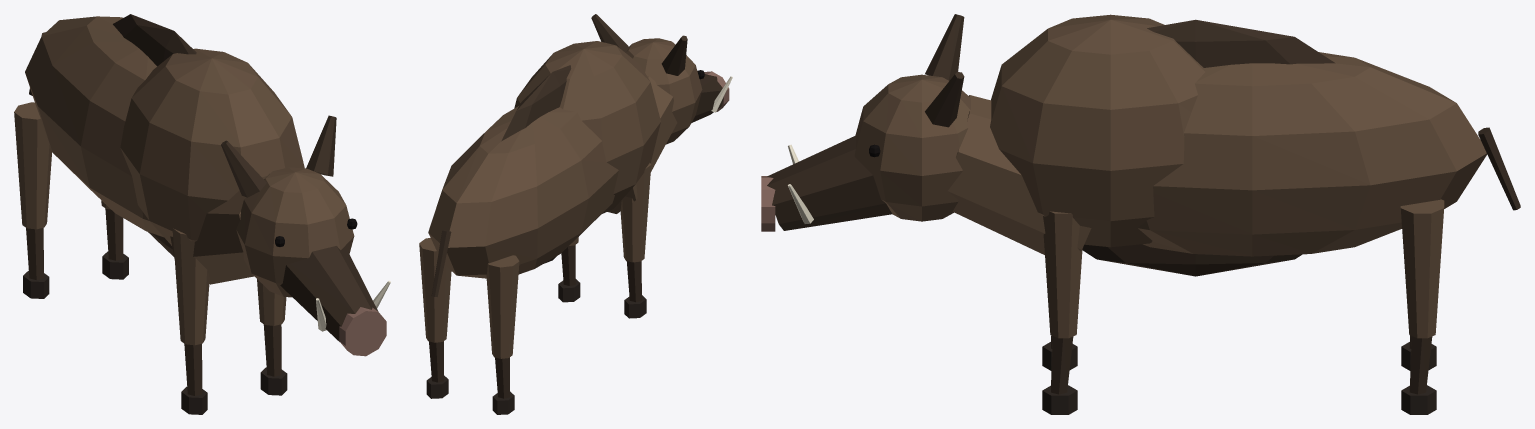
Rendered from boar.obj.
3 views of the same model, side by side, from view 1: azimuth 30°, elevation 25°; view 2: azimuth 150°, elevation 25°; view 3: azimuth 270°, elevation 25° (orthographic). The views are drawn at different scales.
Parts seen in each view (by area): view 1: Body.Shoulder, Body, Head.Skull, Head.Face, Leg.BR, Head.Neck, Leg.FR, Body.Mane, Head.Ear, Head.Snout, Leg.FL, Leg.FR.Shin (+8 smaller); view 2: Body, Body.Shoulder, Head.Skull, Leg.BR, Leg.BL, Leg.FR, Body.Mane, Head.Neck, Head.Ear, Head.Face, Body.Tail, Leg.FR.Shin (+7 smaller); view 3: Body, Body.Shoulder, Head.Skull, Body.Mane, Head.Neck, Head.Face, Leg.BL, Leg.FL, Head.Ear, Leg.BL.Shin, Leg.FL.Shin, Body.Tail (+3 smaller).
Boxes of the visible parts, bbox=[...] form: Body.Shoulder: bbox=[120, 48, 304, 245]; Body: bbox=[25, 16, 163, 237]; Head.Skull: bbox=[236, 167, 354, 297]; Head.Face: bbox=[280, 246, 378, 341]; Leg.BR: bbox=[14, 102, 51, 229]; Head.Neck: bbox=[170, 176, 266, 284]; Leg.FR: bbox=[172, 228, 209, 345]; Body.Mane: bbox=[113, 14, 196, 256]; Head.Ear: bbox=[221, 115, 336, 197]; Head.Snout: bbox=[339, 307, 386, 356]; Leg.FL: bbox=[257, 279, 286, 325]; Leg.FR.Shin: bbox=[184, 343, 202, 395]; Body: bbox=[428, 106, 618, 278]; Body.Shoulder: bbox=[514, 41, 660, 213]; Head.Skull: bbox=[626, 38, 702, 144]; Leg.BR: bbox=[486, 255, 519, 358]; Leg.BL: bbox=[419, 238, 451, 342]; Leg.FR: bbox=[620, 163, 651, 262]; Body.Mane: bbox=[501, 65, 571, 263]; Head.Neck: bbox=[607, 76, 677, 213]; Head.Ear: bbox=[591, 14, 687, 75]; Head.Face: bbox=[691, 74, 723, 122]; Body.Tail: bbox=[431, 230, 451, 297]; Leg.FR.Shin: bbox=[626, 261, 641, 302]; Body: bbox=[1138, 52, 1487, 256]; Body.Shoulder: bbox=[990, 14, 1205, 247]; Head.Skull: bbox=[854, 74, 970, 221]; Body.Mane: bbox=[1082, 19, 1335, 276]; Head.Neck: bbox=[948, 95, 1091, 254]; Head.Face: bbox=[767, 135, 892, 230]; Leg.BL: bbox=[1400, 199, 1444, 338]; Leg.FL: bbox=[1043, 211, 1082, 338]; Head.Ear: bbox=[925, 14, 964, 127]; Leg.BL.Shin: bbox=[1409, 336, 1432, 394]; Leg.FL.Shin: bbox=[1051, 336, 1073, 394]; Body.Tail: bbox=[1478, 127, 1520, 210].
Size of the model in its own units: 0.4 by 0.86 by 1.61.
